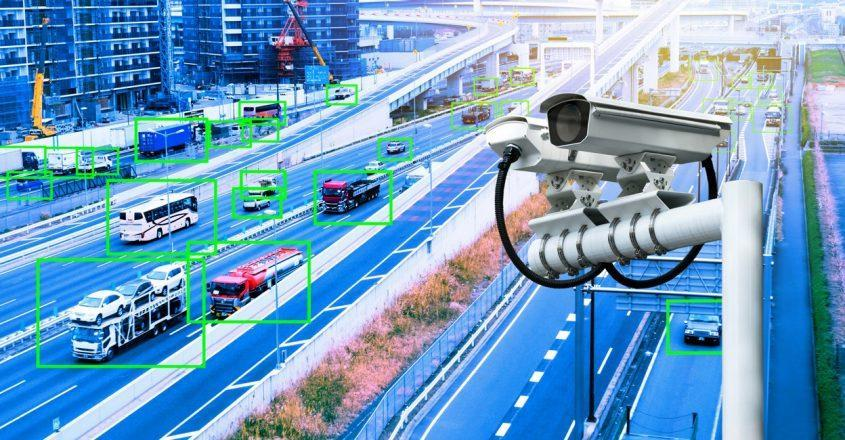Monitor: (484, 92, 733, 287)
